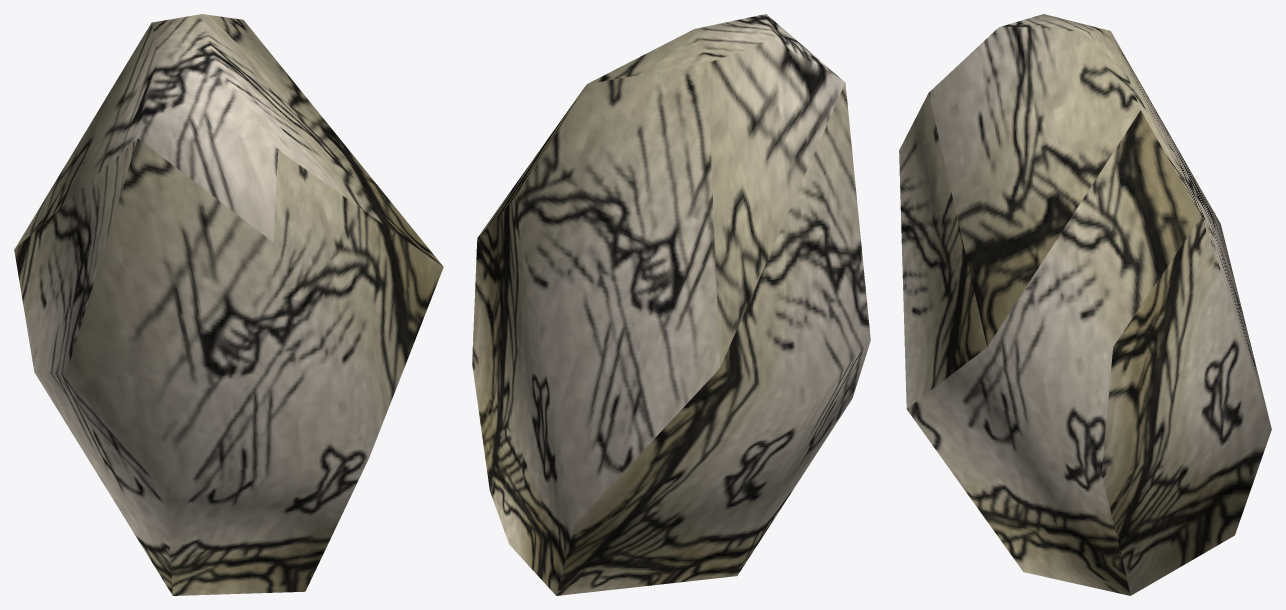
The model's file is boulder2.glb.
The picture shows the model from 3 angles, left to right: view 1: azimuth 30°, elevation 25°; view 2: azimuth 150°, elevation 25°; view 3: azimuth 270°, elevation 25°; orthographic projection. The views are drawn at different scales.
Parts seen in each view (by area): view 1: Boulder_2; view 2: Boulder_2; view 3: Boulder_2.
Part boxes in pixels (x1,y1,x2,y2): Boulder_2: (14,14,443,595); Boulder_2: (472,14,870,595); Boulder_2: (899,14,1271,595).
Size of the model in its own units: 0.5087 by 0.7365 by 0.4892.
Materials: 1 (1 with a texture image).
